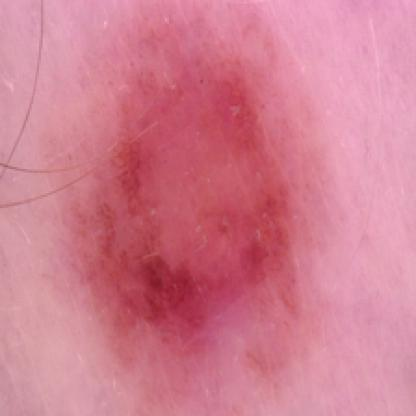benign: (98, 46, 303, 325)
